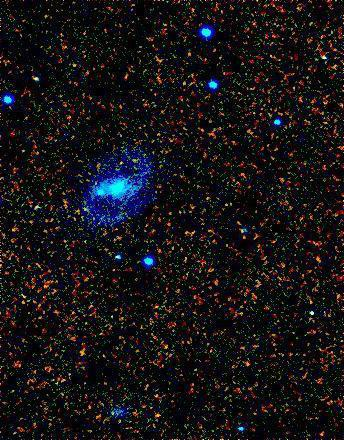star: (83, 177, 113, 207)
